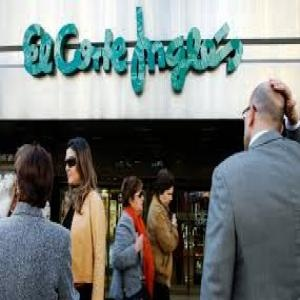corte_ingles: (241, 3, 252, 8)
